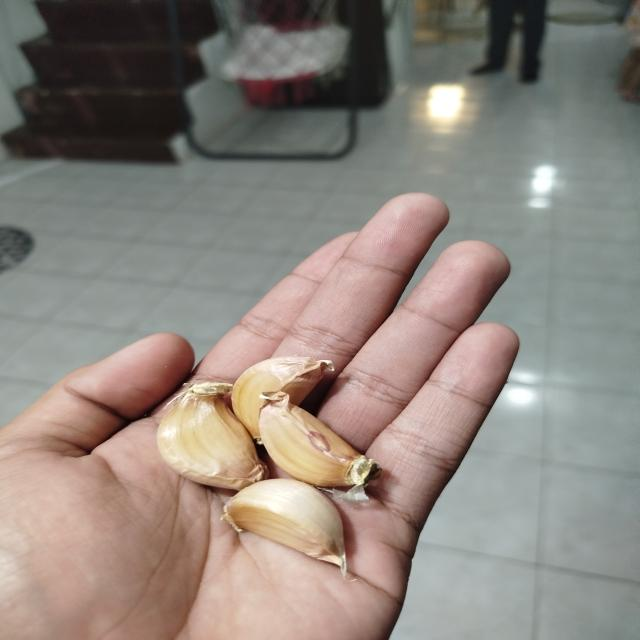garlic: (256, 390, 383, 501), (220, 477, 349, 581), (156, 381, 269, 491), (230, 354, 335, 446)
